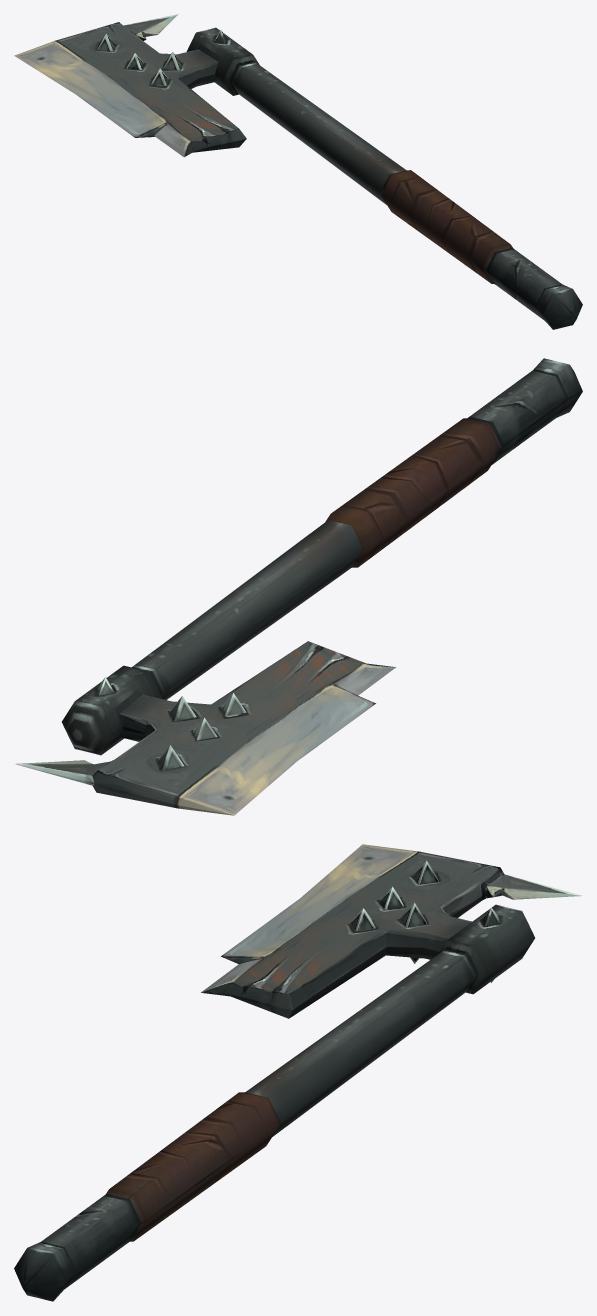
File: Set9_2.fbx
3 renders of one model, top to bottom at view 1: azimuth 30°, elevation 25°; view 2: azimuth 150°, elevation 25°; view 3: azimuth 330°, elevation 25°, orthographic. The views are drawn at different scales.
Parts seen in each view (by area): view 1: s9_2; view 2: s9_2; view 3: s9_2.
Part boxes in pixels (x1,y1,x2,y2): s9_2: [14, 14, 582, 329]; s9_2: [15, 358, 582, 815]; s9_2: [14, 844, 581, 1301].
Size of the model in its own units: 0.4059 by 0.13 by 1.69.
